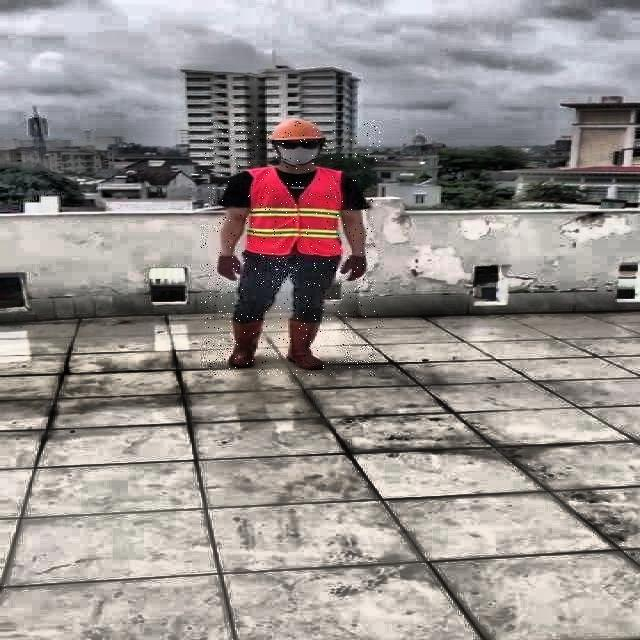safety_helmet: (268, 116, 326, 144)
safety_jacket: (249, 166, 345, 257)
